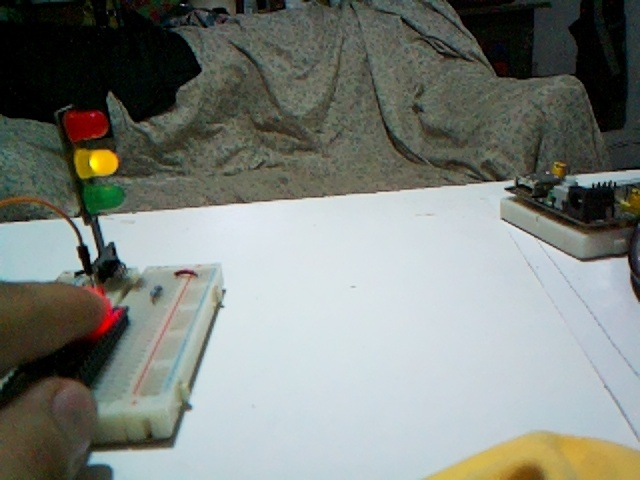traffic_light_yellow: (56, 105, 125, 284)
